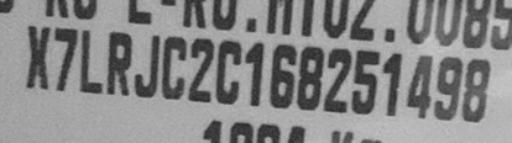letter: (16, 19, 54, 90), (404, 49, 438, 124), (102, 28, 136, 99), (295, 40, 327, 115), (380, 47, 412, 122), (325, 43, 357, 116), (268, 42, 300, 113), (434, 53, 466, 124), (241, 37, 271, 112), (352, 46, 382, 121), (462, 53, 492, 124), (214, 36, 244, 105), (52, 24, 80, 97), (158, 33, 188, 100), (186, 36, 214, 107), (134, 32, 160, 103), (80, 28, 104, 97)
